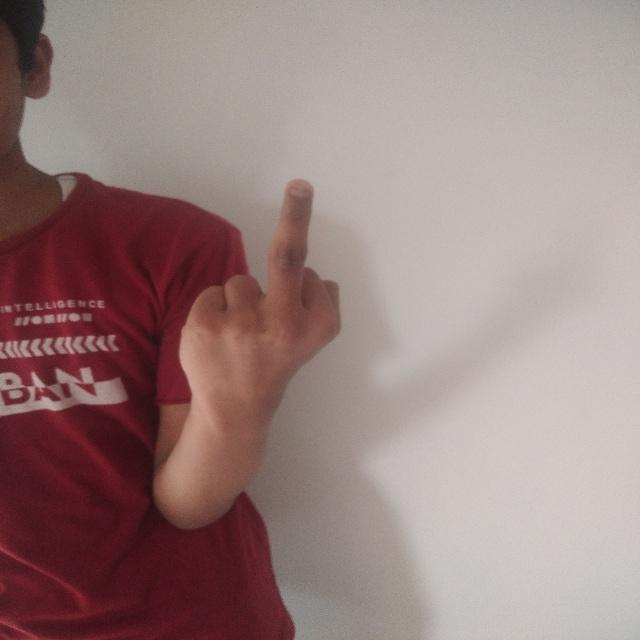Middle Finger: (150, 166, 346, 484)
